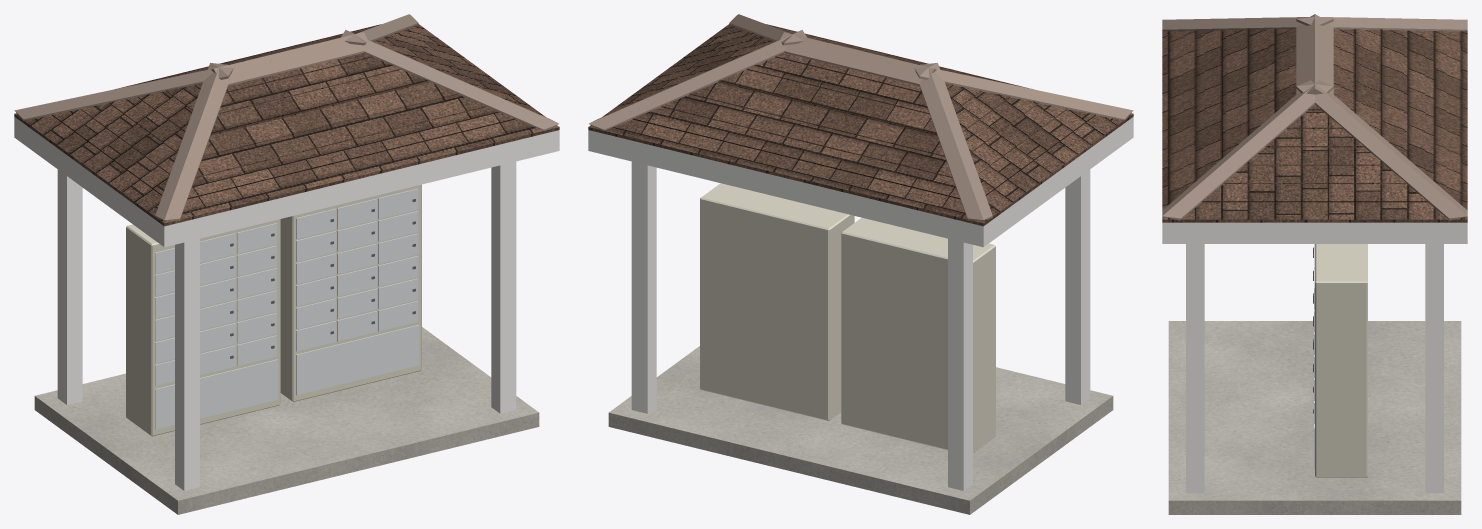
The model's file is mailboxes.glb.
The picture shows the model from 3 angles, left to right: view 1: azimuth 30°, elevation 25°; view 2: azimuth 150°, elevation 25°; view 3: azimuth 270°, elevation 25°; orthographic projection.
Parts seen in each view (by area): view 1: mailboxes_shingles, mailboxes_alu, mailboxes_concrete, mailboxes_trim, mailboxes_mail, mailboxes_shingle_c; view 2: mailboxes_mail, mailboxes_shingles, mailboxes_trim, mailboxes_concrete, mailboxes_shingle_c; view 3: mailboxes_shingles, mailboxes_concrete, mailboxes_trim, mailboxes_shingle_c, mailboxes_mail.
Boxes of the visible parts, bbox=[...] form: mailboxes_shingles: bbox=[14, 24, 559, 226]; mailboxes_alu: bbox=[155, 188, 419, 429]; mailboxes_concrete: bbox=[34, 327, 539, 514]; mailboxes_trim: bbox=[14, 117, 559, 490]; mailboxes_mail: bbox=[126, 184, 421, 436]; mailboxes_shingle_c: bbox=[14, 14, 558, 220]; mailboxes_mail: bbox=[700, 183, 995, 452]; mailboxes_shingles: bbox=[588, 24, 1133, 226]; mailboxes_trim: bbox=[588, 117, 1133, 490]; mailboxes_concrete: bbox=[608, 346, 1113, 514]; mailboxes_shingle_c: bbox=[589, 14, 1133, 220]; mailboxes_shingles: bbox=[1162, 28, 1467, 222]; mailboxes_concrete: bbox=[1168, 321, 1461, 514]; mailboxes_trim: bbox=[1162, 222, 1467, 493]; mailboxes_shingle_c: bbox=[1162, 14, 1467, 220]; mailboxes_mail: bbox=[1315, 244, 1367, 477].
Size of the model in its own units: 3.5 by 3.11 by 2.3.
8 materials, 3 textured.
